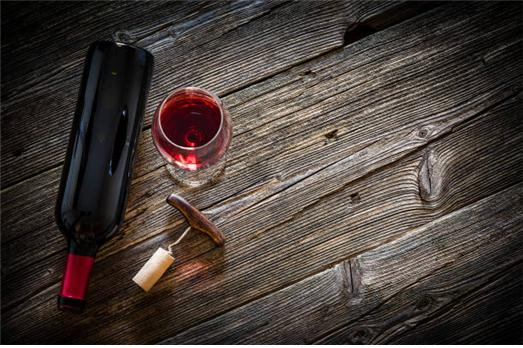alcohol: (53, 39, 153, 301), (152, 88, 231, 186)
